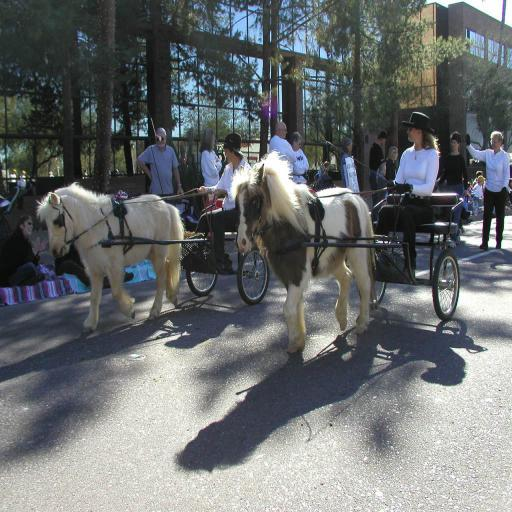Horse: (230, 150, 380, 357), (34, 181, 184, 336)
